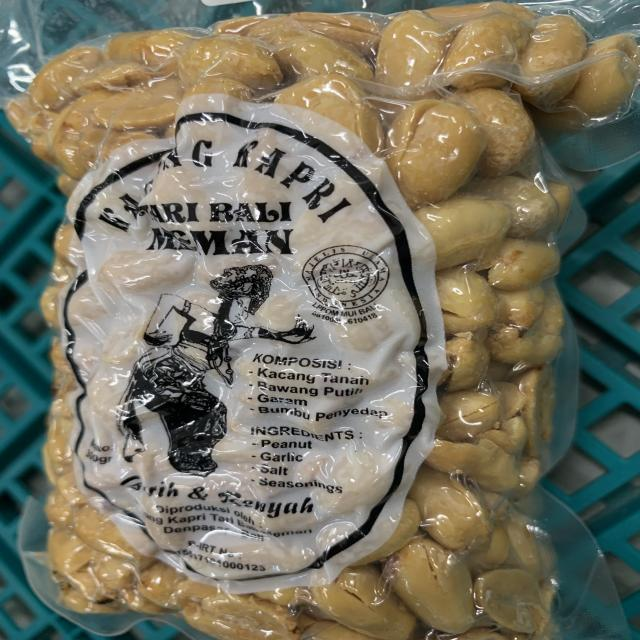object_name: (30, 6, 557, 633)
